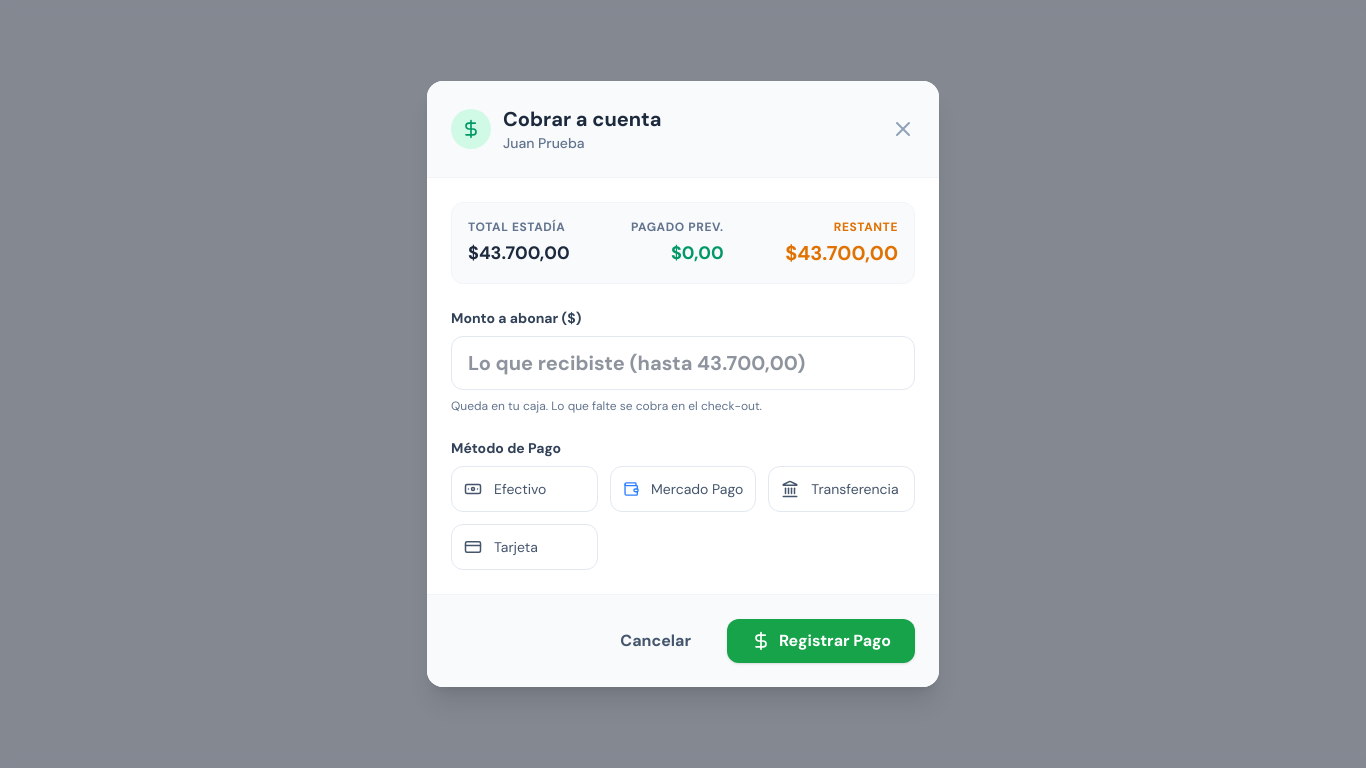
Test: PaymentModal: cobro a cuenta antes del check-out › sin medio elegido no registra nada, como en los demás cobros
Step 1. Type "20.000" into the field labelled "Monto a abonar ($)" → (683, 363), box [451,336,915,390]
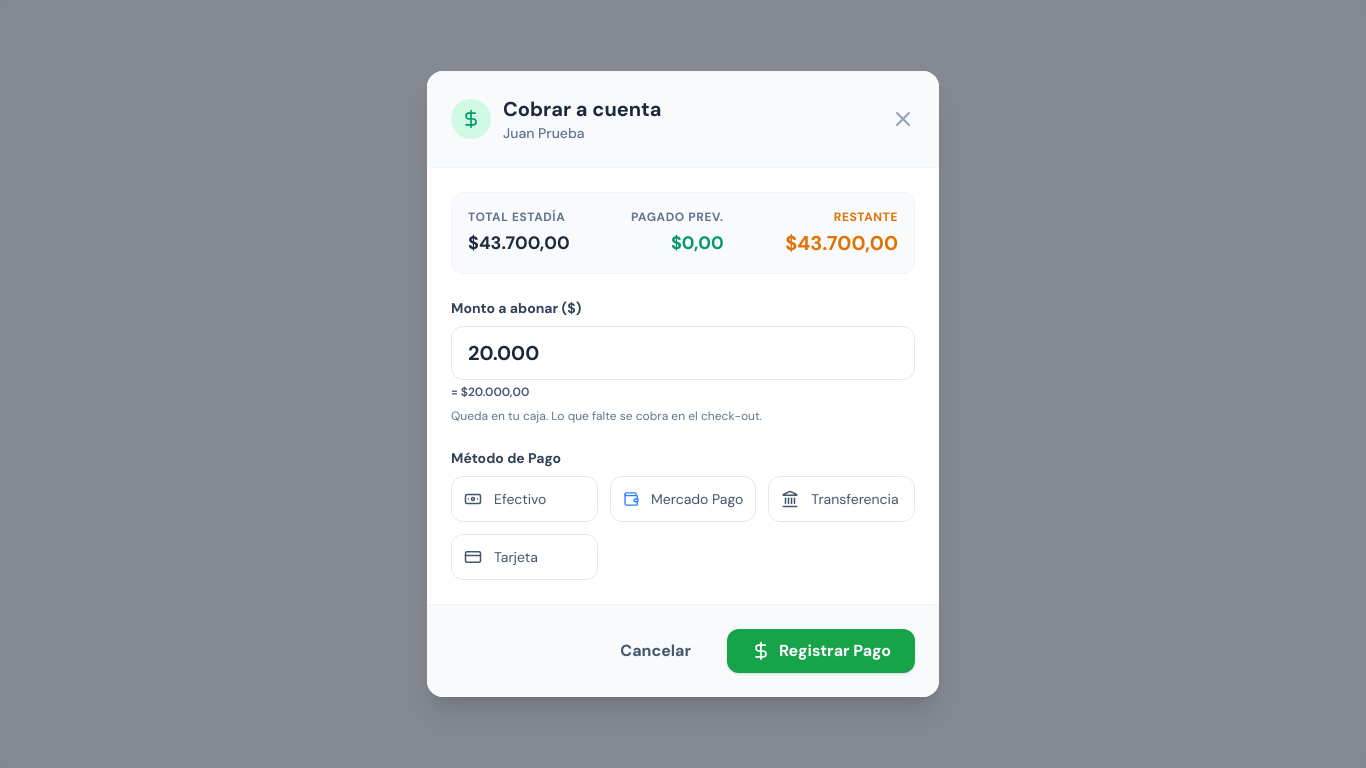
Step 2. Click the button "Registrar Pago" → click(821, 651), box [727,629,915,673]
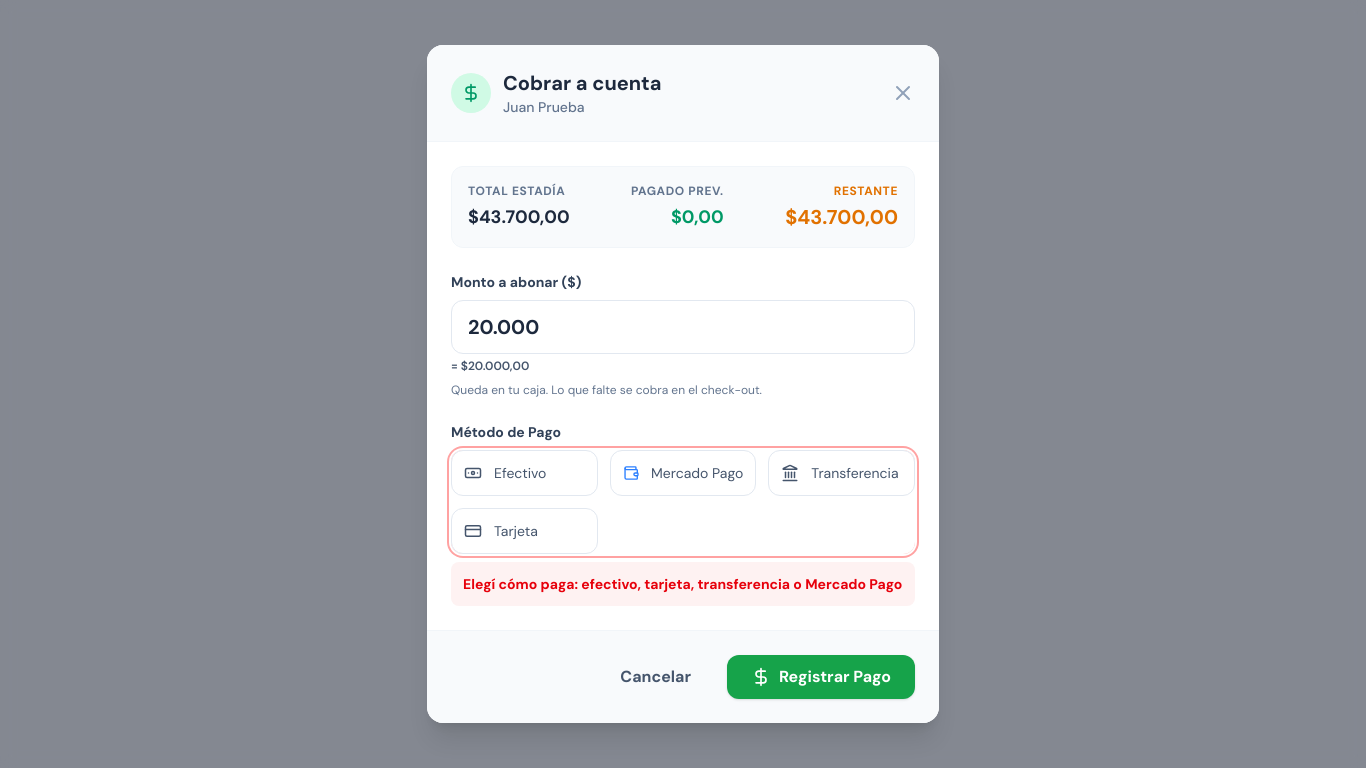
Check: the text "Elegí cómo paga: efectivo, tarjeta, transferencia o Mercado Pago" is shown, box [451,562,915,606]
